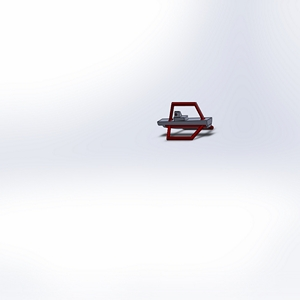submarine: (145, 93, 225, 156)
